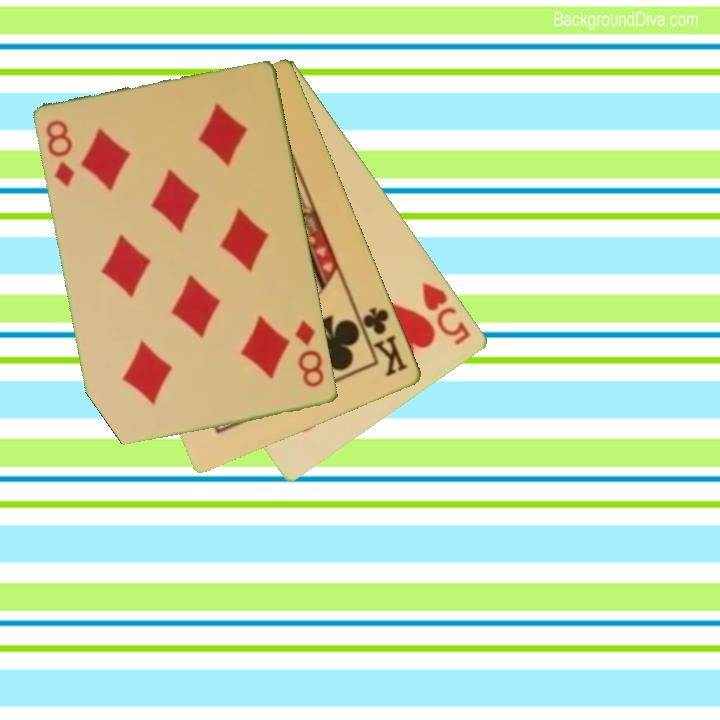5h: (419, 279, 474, 348)
8d: (292, 317, 328, 391), (43, 116, 78, 190)
Kc: (354, 303, 411, 380)
